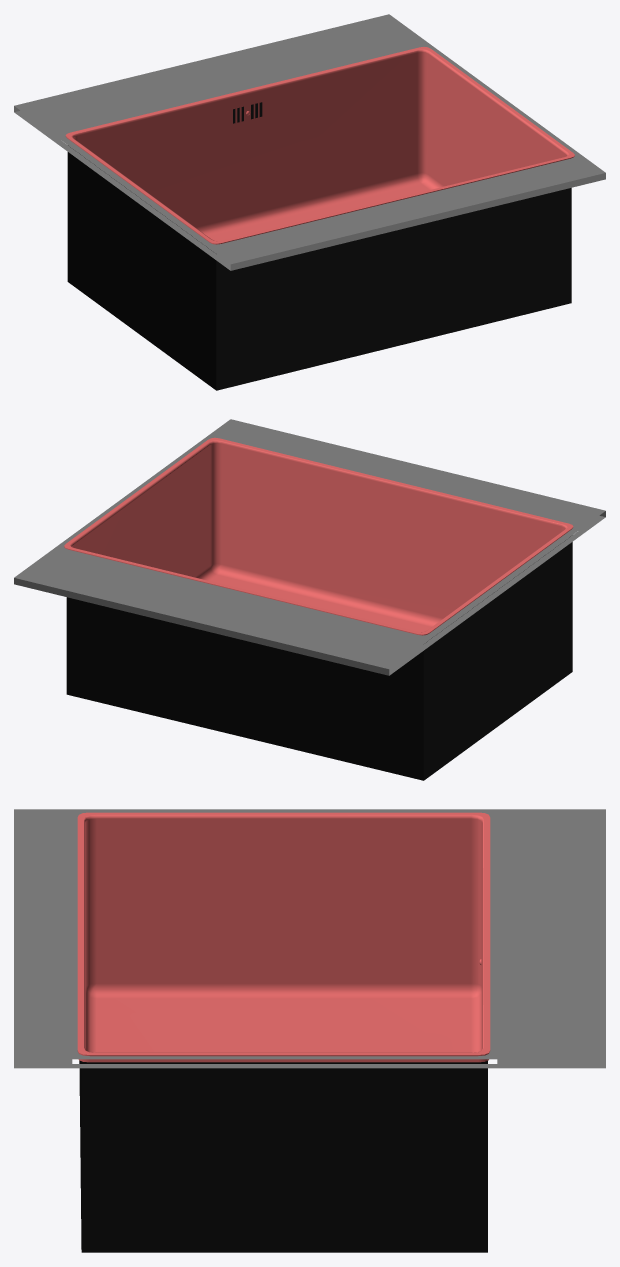
File: KTCH_ELIX_Sink_60_60_16.FBX
The picture shows the model from 3 angles, top to bottom: view 1: azimuth 30°, elevation 25°; view 2: azimuth 150°, elevation 25°; view 3: azimuth 270°, elevation 25°; orthographic projection. The views are drawn at different scales.
Visible parts, largest first — view 1: KTCH_ELIX_Sink_60_60_16; view 2: KTCH_ELIX_Sink_60_60_16; view 3: KTCH_ELIX_Sink_60_60_16.
Part boxes in pixels (x1,y1,x2,y2): KTCH_ELIX_Sink_60_60_16: (14, 14, 605, 390); KTCH_ELIX_Sink_60_60_16: (14, 419, 605, 780); KTCH_ELIX_Sink_60_60_16: (14, 809, 605, 1252).
Bounding box in the file's own units: 60 × 60.01 × 22.45.
